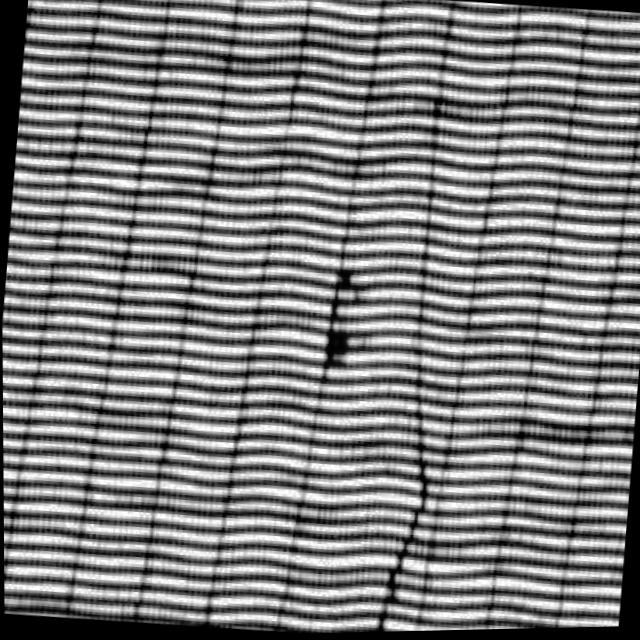Stitch: (332, 350, 472, 634)
